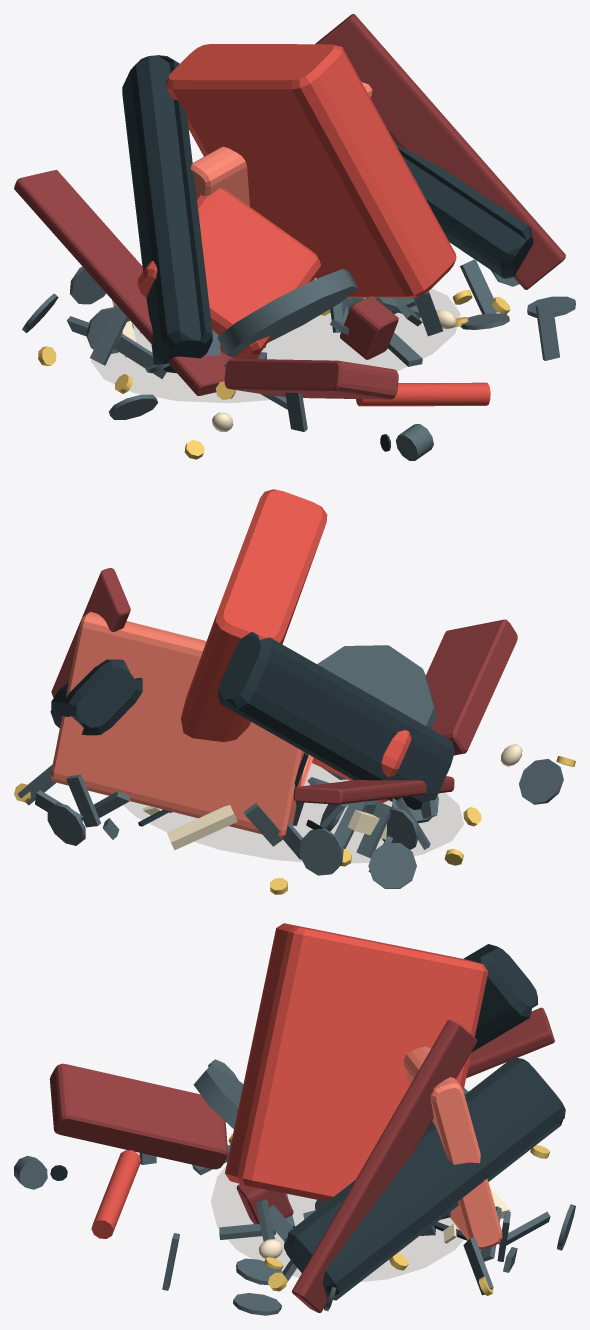
The model's file is tank-red-broken.glb.
3 renders of one model, top to bottom at view 1: azimuth 30°, elevation 25°; view 2: azimuth 150°, elevation 25°; view 3: azimuth 270°, elevation 25°, orthographic. The views are drawn at different scales.
Visible parts, largest first — view 1: settled-toy-pieces (×7), impact-mark; view 2: settled-toy-pieces (×7), impact-mark; view 3: settled-toy-pieces (×7), impact-mark.
Boxes of the visible parts, left/top/right/bottom form: settled-toy-pieces (×7): left=14, top=14, right=575, bottom=460; impact-mark: left=91, top=289, right=459, bottom=402; settled-toy-pieces (×7): left=14, top=489, right=575, bottom=894; impact-mark: left=123, top=763, right=463, bottom=862; settled-toy-pieces (×7): left=14, top=923, right=575, bottom=1315; impact-mark: left=211, top=1167, right=462, bottom=1281.
Size of the model in its own units: 3.15 by 1.83 by 3.2.
